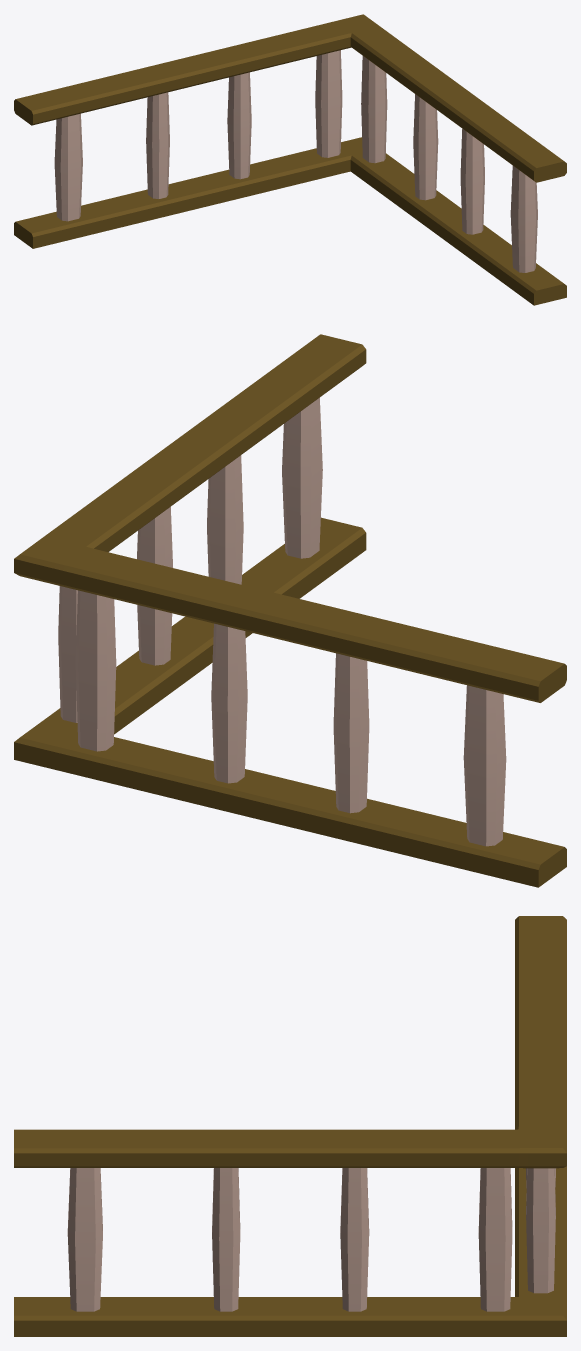
File: CornerRail.fbx
The picture shows the model from 3 angles, top to bottom: view 1: azimuth 30°, elevation 25°; view 2: azimuth 150°, elevation 25°; view 3: azimuth 270°, elevation 25°; orthographic projection. The views are drawn at different scales.
Visible parts, largest first — view 1: polySurface89; view 2: polySurface89; view 3: polySurface89.
Boxes of the visible parts, x1=… form: polySurface89: x1=14, y1=14, x2=566, y2=305; polySurface89: x1=14, y1=334, x2=566, y2=887; polySurface89: x1=14, y1=916, x2=566, y2=1336.
Bounding box in the file's own units: 3 × 1.12 × 3.
